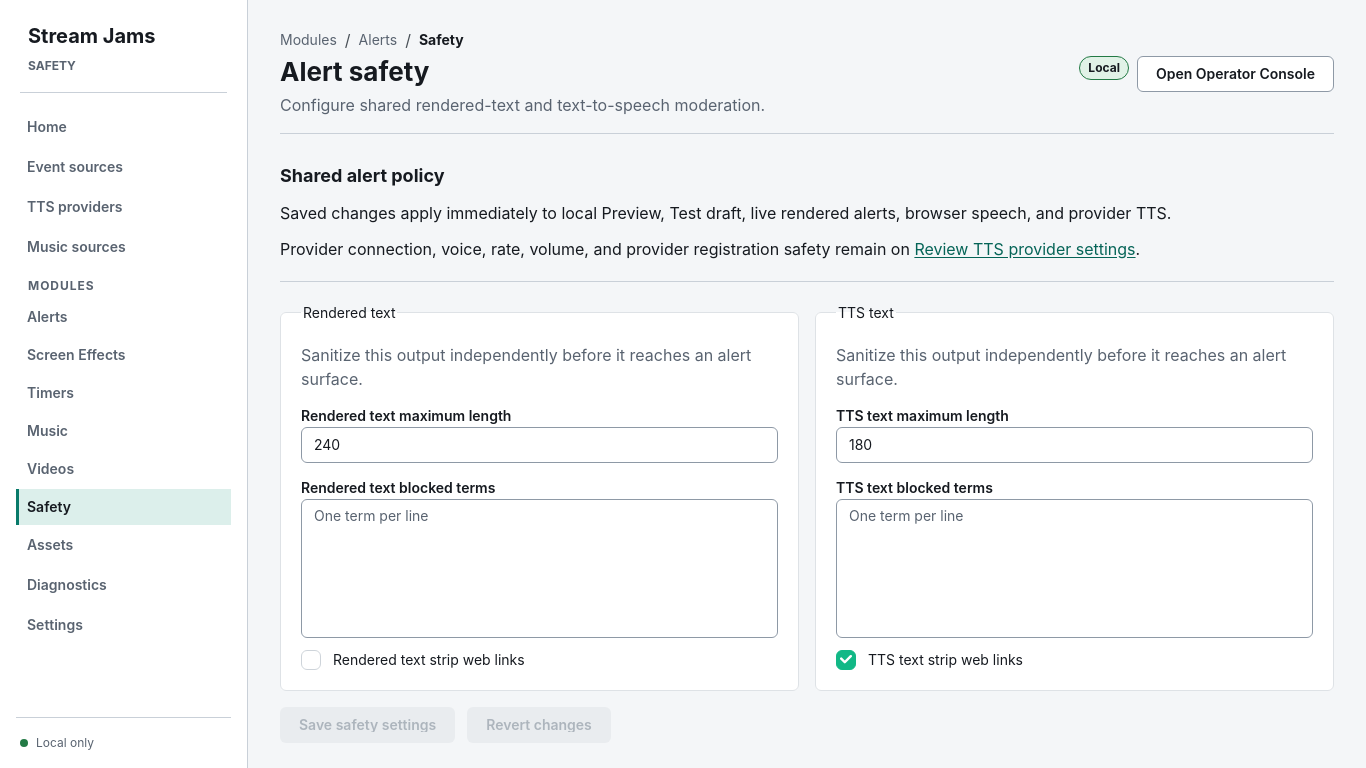
Test case: ManagementApp › keeps the dirty-navigation dialog open with validation guidance when alert safety cannot save
Replace the text in the number field labelled "Rendered text maximum length" with "0" at {"x": 540, "y": 444}, box x1=301 y1=426 x2=778 y2=462
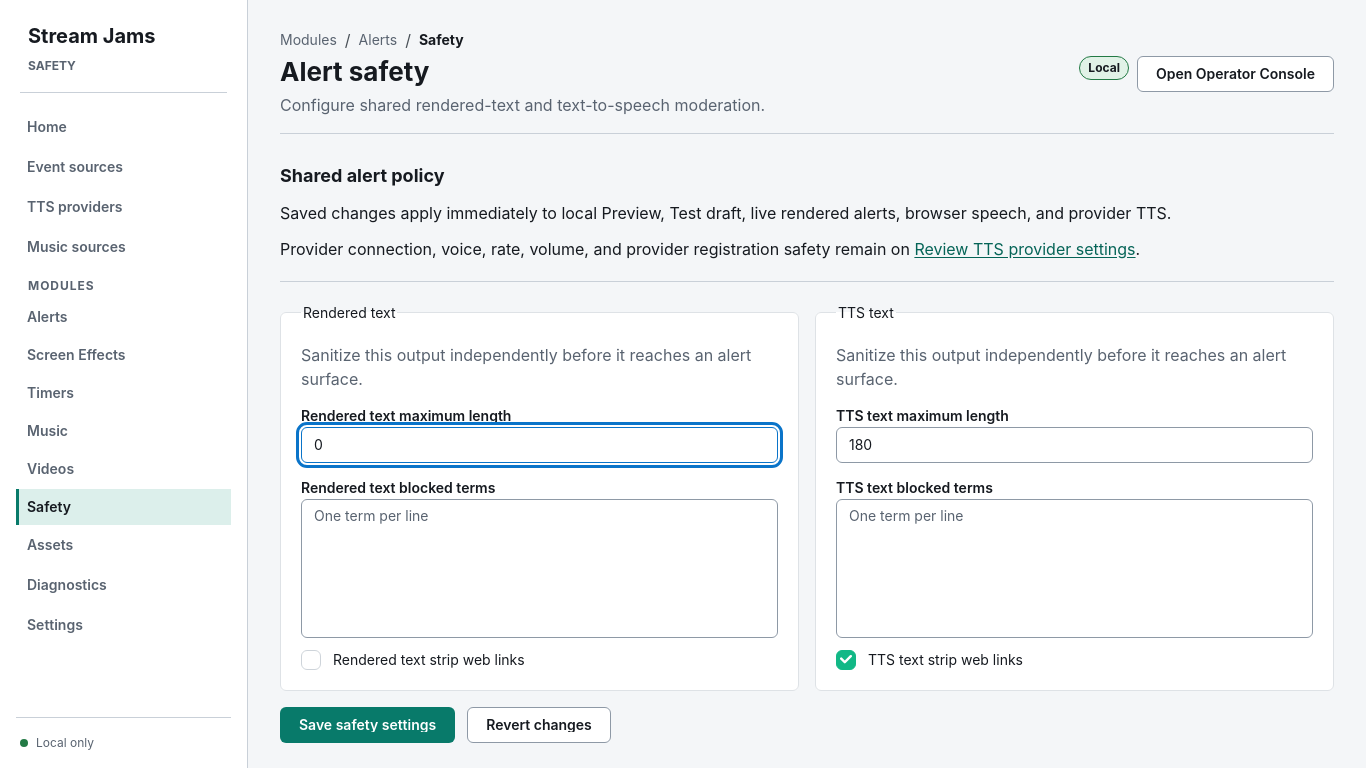
Click the link "Assets" at {"x": 50, "y": 544}, box x1=27 y1=536 x2=73 y2=553
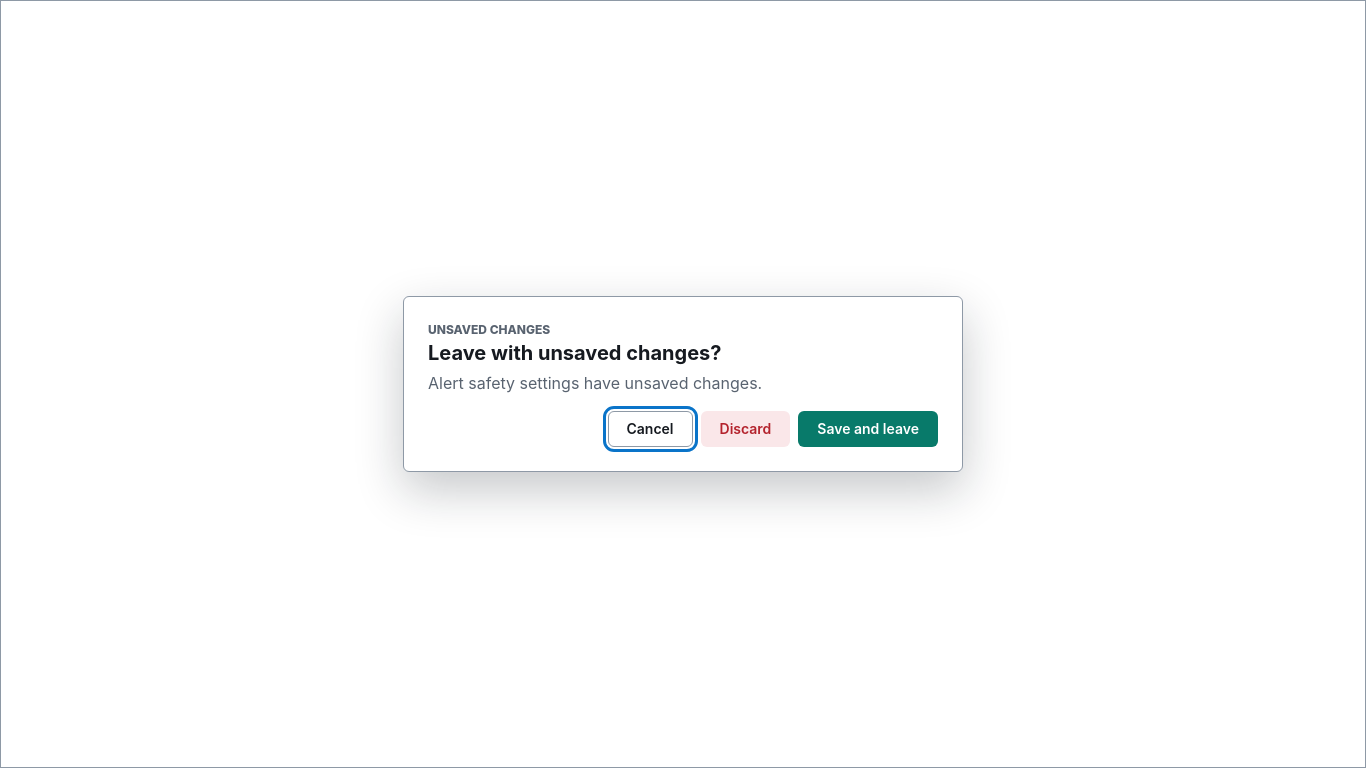
Click the button "Save and leave" at {"x": 868, "y": 429}, box x1=798 y1=411 x2=938 y2=447
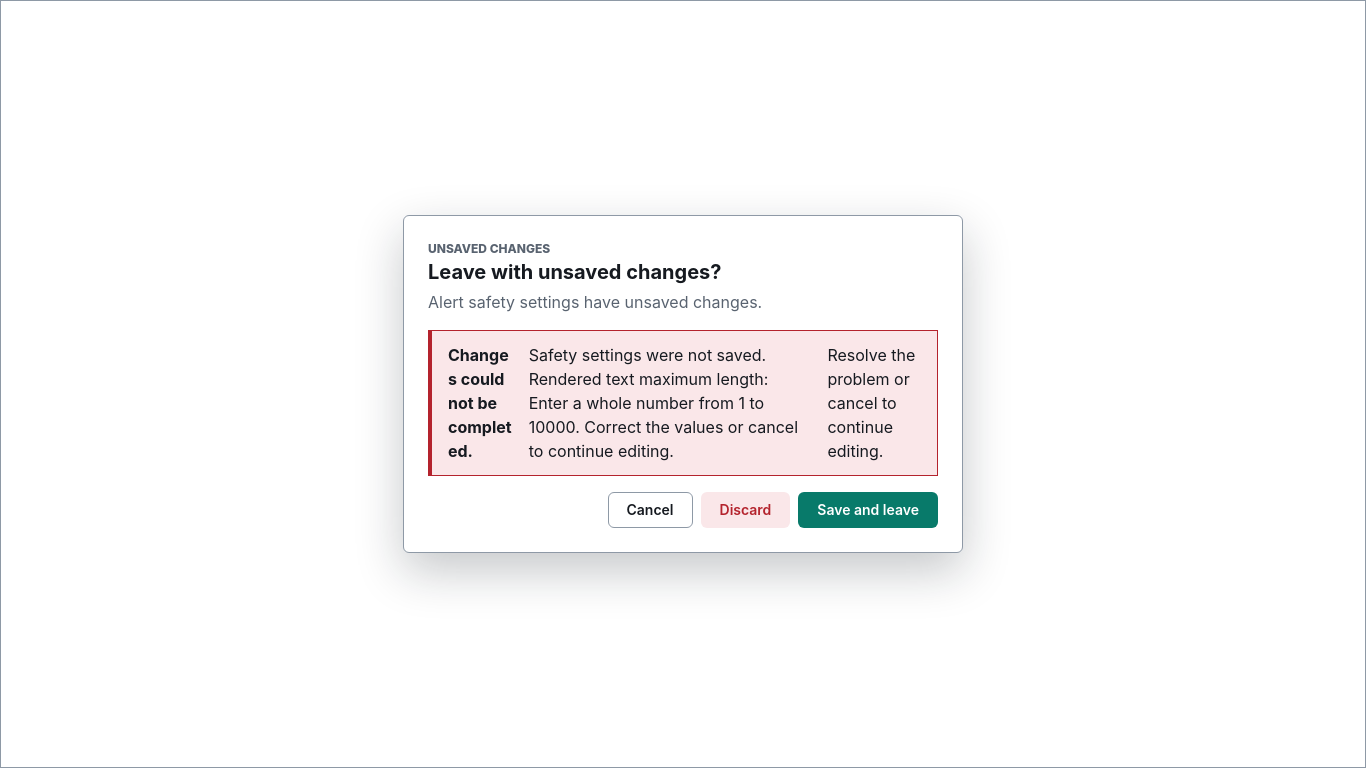
Now the message shows "Rendered text maximum length", box x1=529 y1=345 x2=798 y2=461
Now the message shows "whole number from 1 to 10000", box x1=529 y1=345 x2=798 y2=461
